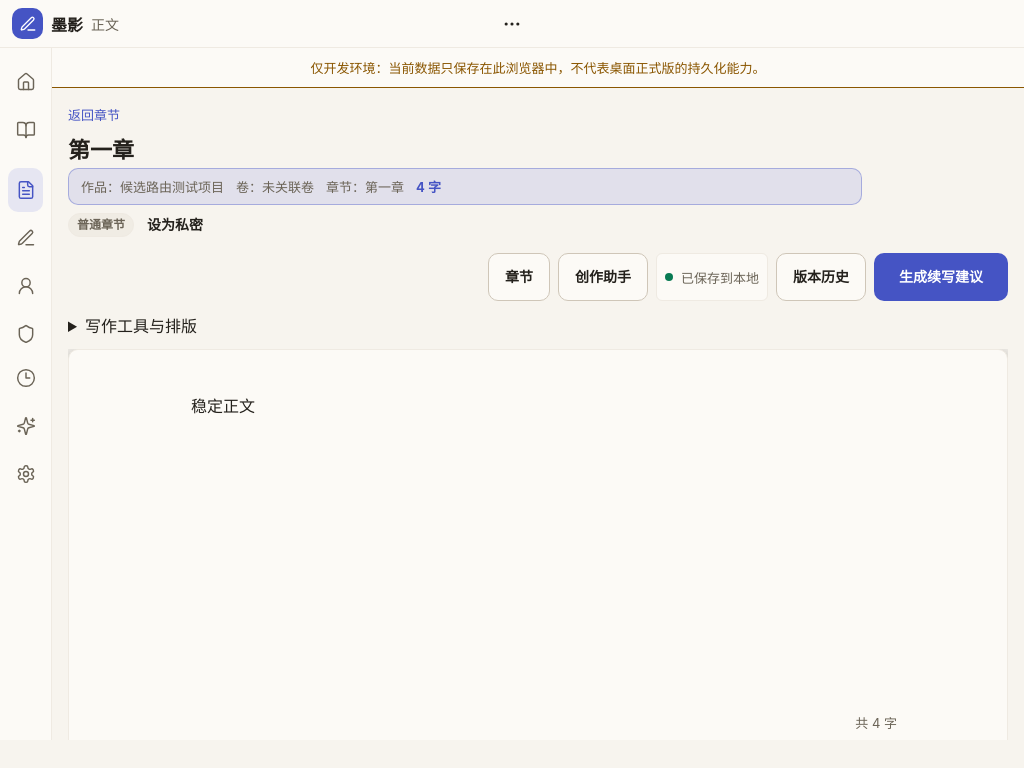
Test: editor candidate route selection › starts a new installation in direct mode with a visible isolated result
This screenshot has width=1024, height=768.
Click the button "生成续写建议": (941, 277) [874,253,1008,301]
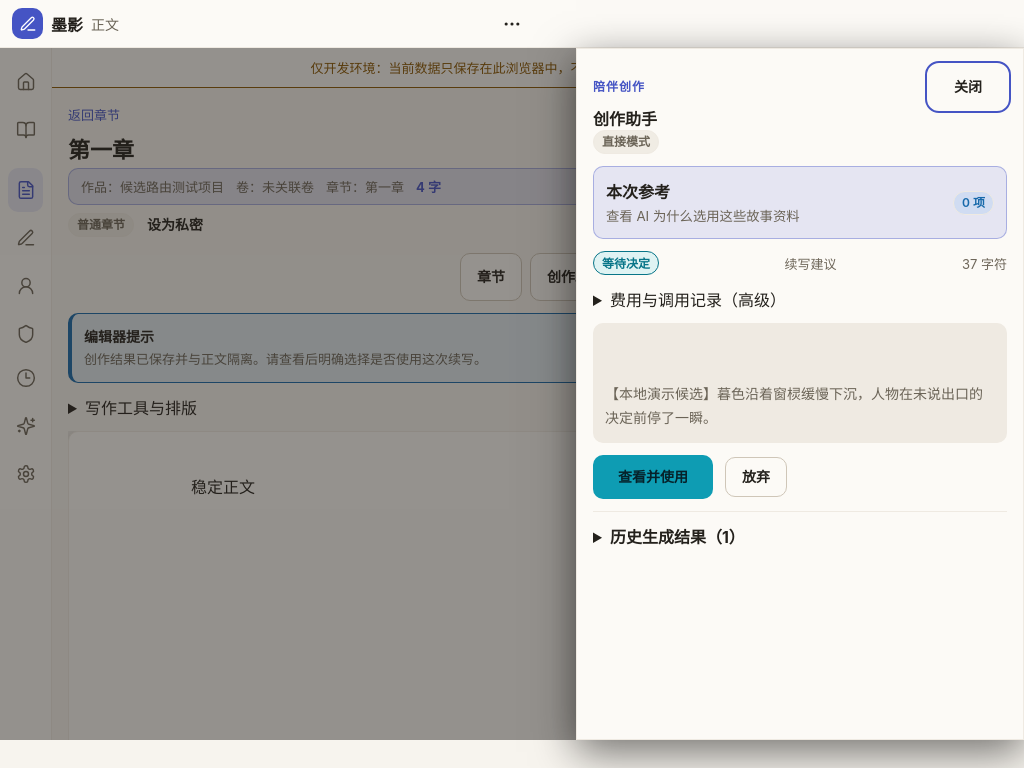
Result: the button "查看并使用" is shown at [593,454,713,498]
Result: the text "创作结果已保存并与正文隔离" is shown at [84,351,487,367]
